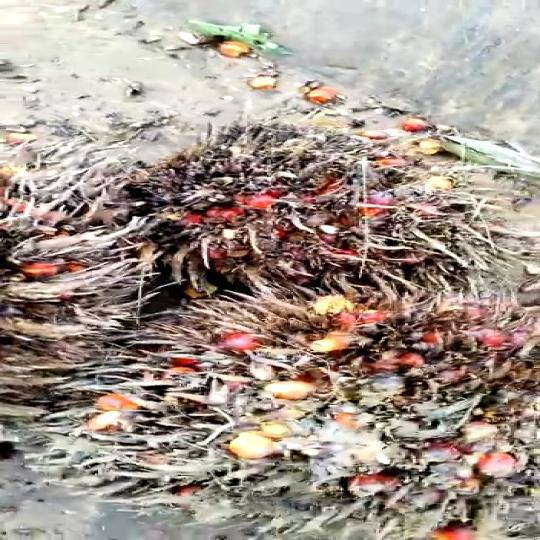terlalu masak: (101, 297, 540, 540), (112, 126, 514, 294)
